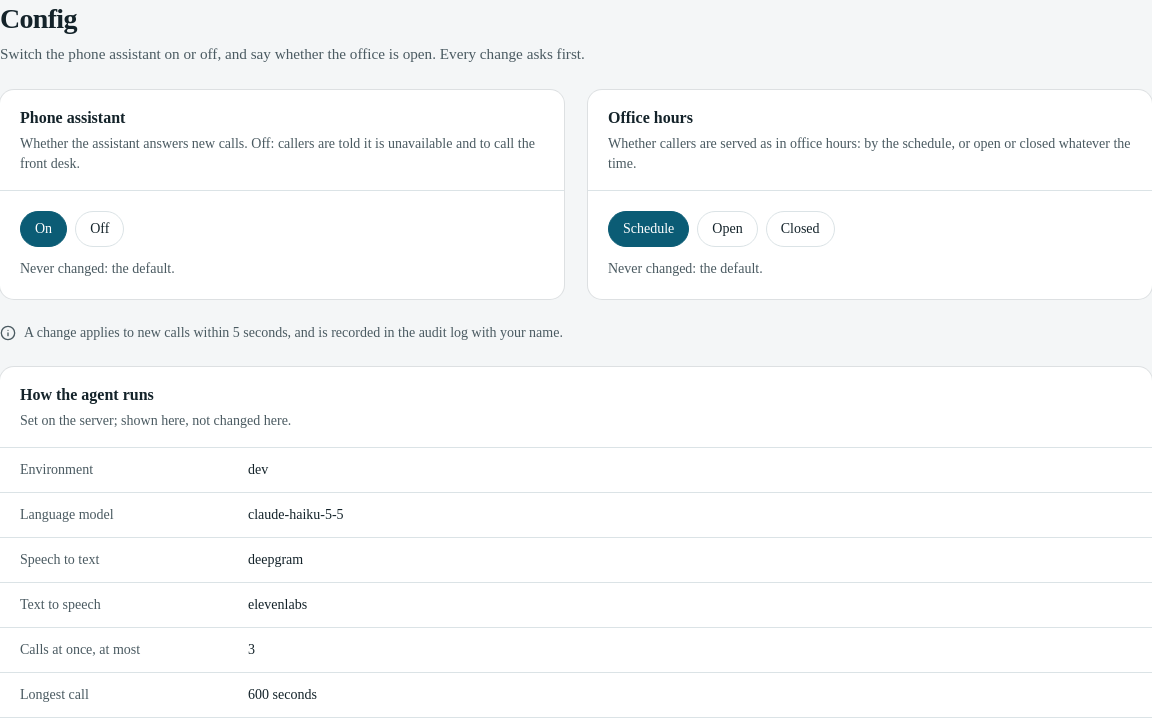
Test case: Config › says what callers will be told before the office is treated as closed
Later steps or results of the test are not shown.
Click the radio button labelled "Closed" at (800, 229), box [766, 211, 835, 247]
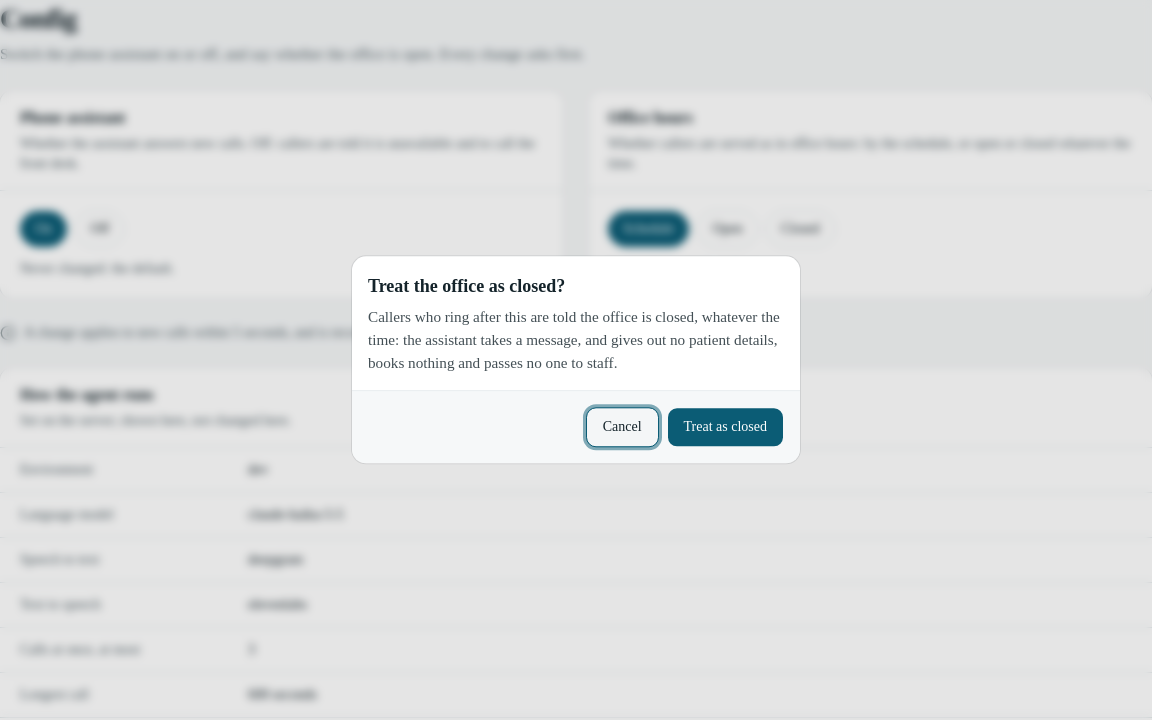
Now the dialog shows "Callers who ring after this are told the office is closed", box [368, 308, 780, 371]
